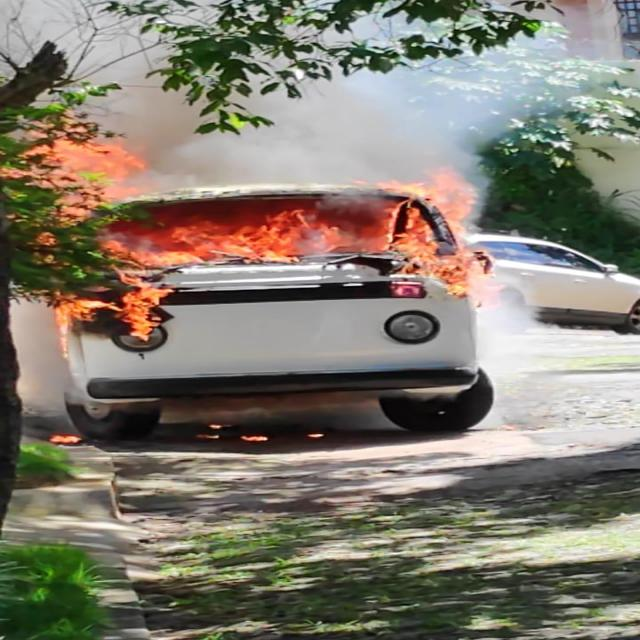fire: (32, 191, 494, 335)
